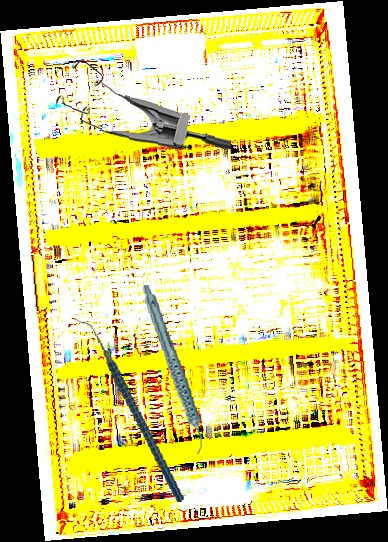Chopper: (73, 305, 185, 513)
Handpiece: (140, 280, 206, 459)
Speculum: (54, 56, 234, 153)
